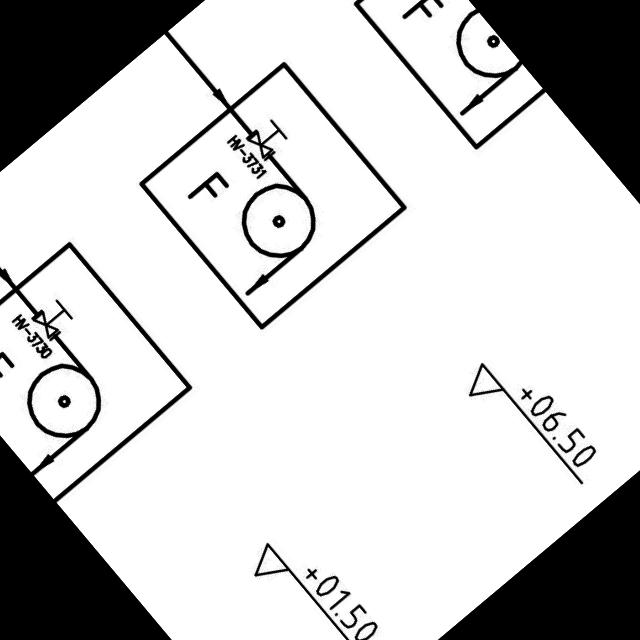HVWT: (25, 292, 81, 347), (240, 110, 296, 164)
